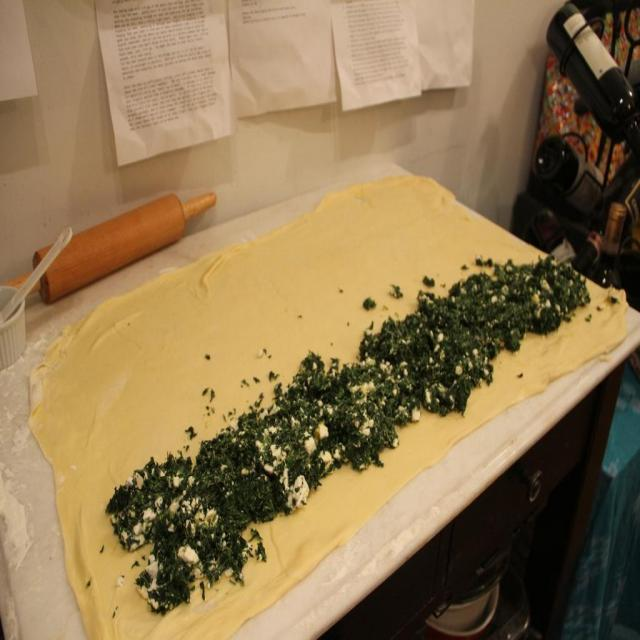Table: (0, 159, 639, 639)
